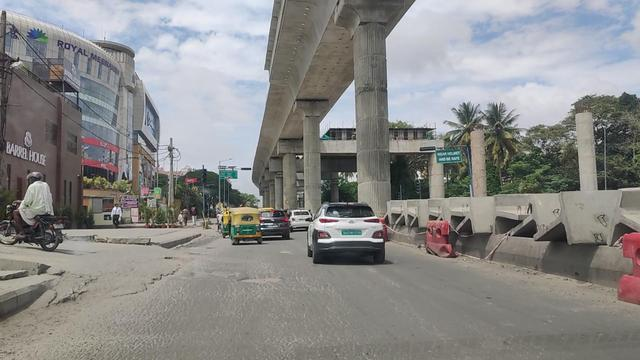LMV: (309, 200, 384, 266), (18, 171, 60, 241), (228, 205, 259, 244)
RoadDamages: (235, 270, 284, 289)
